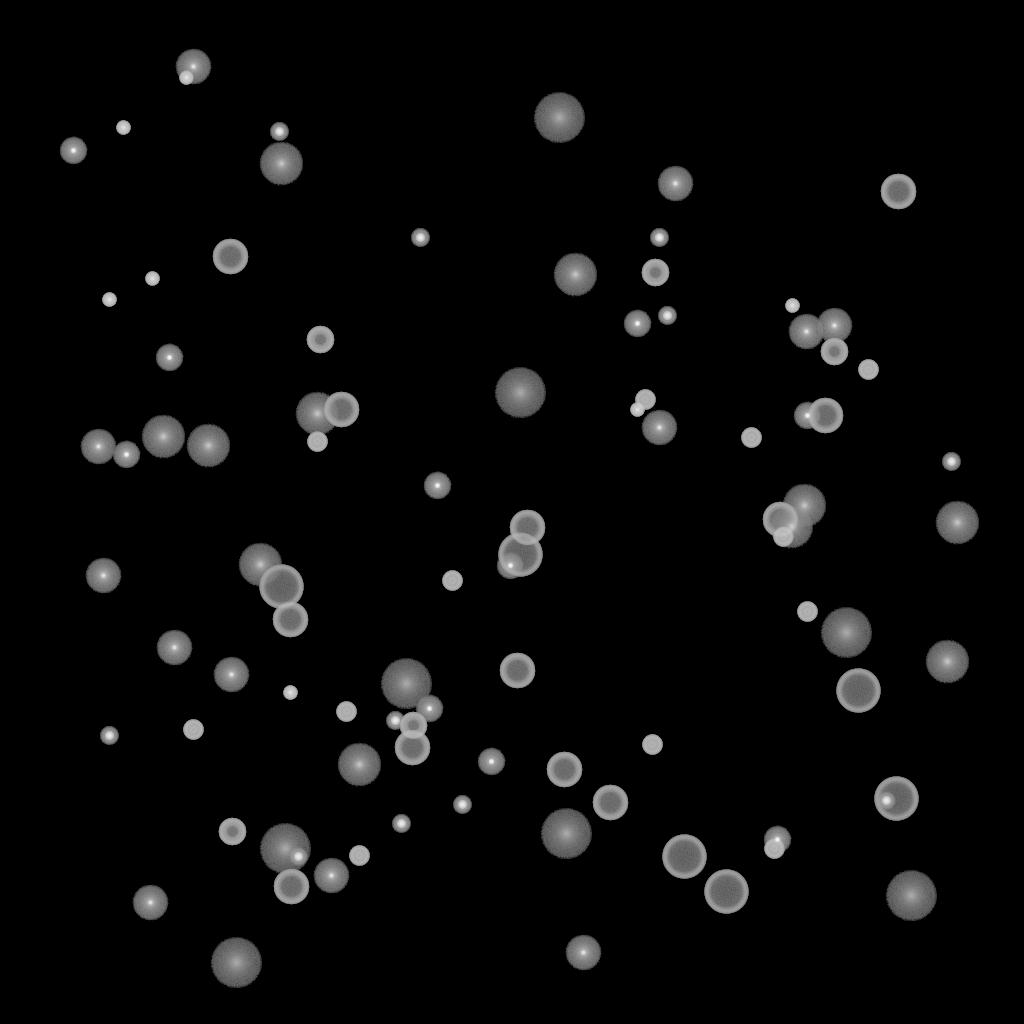depth:-10: (477, 748, 505, 776), (623, 310, 651, 338), (59, 137, 87, 165), (496, 552, 524, 580), (415, 695, 443, 723), (423, 472, 451, 500), (763, 826, 791, 854), (112, 441, 140, 469), (155, 344, 183, 372), (793, 402, 821, 430)
depth:-20: (289, 848, 307, 866), (386, 712, 404, 730), (411, 229, 429, 247), (650, 229, 668, 247), (392, 815, 410, 833), (270, 123, 288, 141), (100, 727, 118, 745), (453, 796, 471, 814), (658, 307, 676, 325), (877, 792, 895, 810), (942, 453, 960, 471)
depth:-30: (785, 299, 799, 313), (116, 121, 130, 135), (179, 71, 193, 85), (102, 293, 116, 307), (145, 272, 159, 286), (283, 686, 297, 700), (630, 403, 644, 417)
depth:-40: (741, 428, 761, 448), (307, 432, 327, 452), (764, 839, 784, 859), (336, 702, 356, 722), (773, 527, 793, 547), (183, 720, 203, 740), (642, 735, 662, 755), (797, 602, 817, 622), (442, 571, 462, 591), (635, 390, 655, 410), (349, 846, 369, 866), (858, 360, 878, 380)
depth:-50: (399, 712, 427, 740), (641, 259, 669, 287), (820, 338, 848, 366), (306, 326, 334, 354), (218, 818, 246, 846)
depth:-60: (272, 602, 308, 638), (509, 510, 545, 546), (323, 392, 359, 428), (273, 869, 309, 905), (807, 398, 843, 434), (880, 174, 916, 210), (546, 752, 582, 788), (212, 239, 248, 275), (394, 730, 430, 766), (762, 502, 798, 538), (592, 785, 628, 821), (499, 653, 535, 689)
depth:-70: (836, 669, 880, 713), (662, 835, 706, 879), (259, 565, 303, 609), (704, 870, 748, 914), (874, 777, 918, 821), (498, 533, 542, 577)
depth:0: (80, 429, 116, 465), (213, 657, 249, 693), (156, 630, 192, 666), (788, 314, 824, 350), (85, 558, 121, 594), (641, 410, 677, 446), (816, 308, 852, 344), (175, 49, 211, 85), (565, 935, 601, 971), (657, 166, 693, 202), (132, 885, 168, 921), (313, 858, 349, 894)
depth:10: (186, 424, 230, 468), (925, 640, 969, 684), (337, 743, 381, 787), (238, 543, 282, 587), (782, 484, 826, 528), (259, 142, 303, 186), (935, 501, 979, 545), (769, 505, 813, 549), (141, 415, 185, 459), (295, 392, 339, 436), (553, 253, 597, 297)
depth:20: (210, 938, 262, 988), (533, 93, 585, 143), (494, 368, 546, 418), (885, 871, 937, 921), (259, 824, 311, 874), (540, 809, 592, 859), (380, 659, 432, 709), (820, 608, 872, 658)
